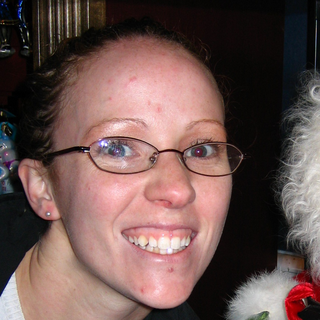eye: (100, 136, 143, 161), (184, 139, 223, 163)
